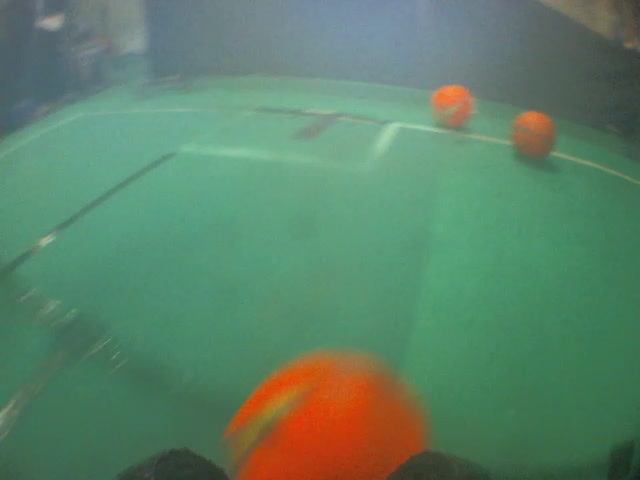ball: (215, 339, 443, 480), (507, 106, 563, 166), (425, 81, 480, 134)
